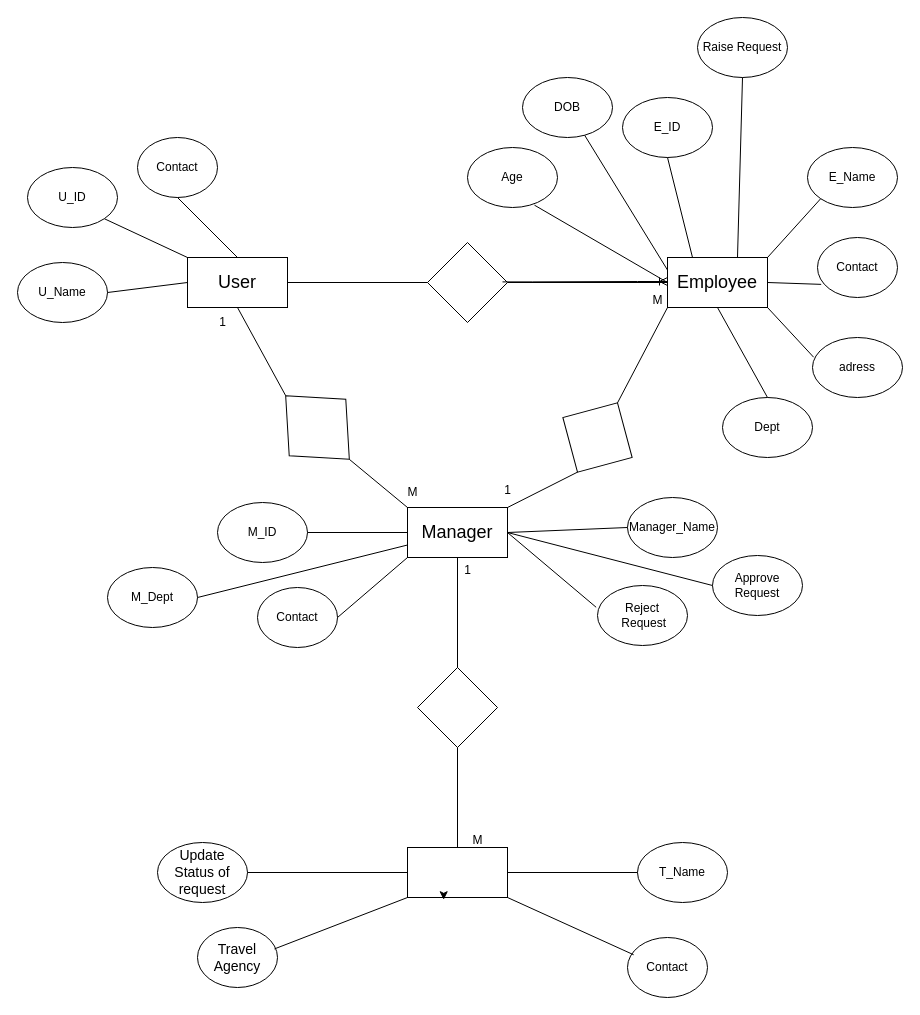
Image size: 920x1015. Some labels were removed from this diagram. Each missing label, with the centre of its shape:
"Has" belongs at pixel 597 437.
"Manage" belongs at pixel 467 282.
"Manages" belongs at pixel 317 427.
"Send" belongs at pixel 457 707.
"Travel Agent" belongs at pixel 457 872.
